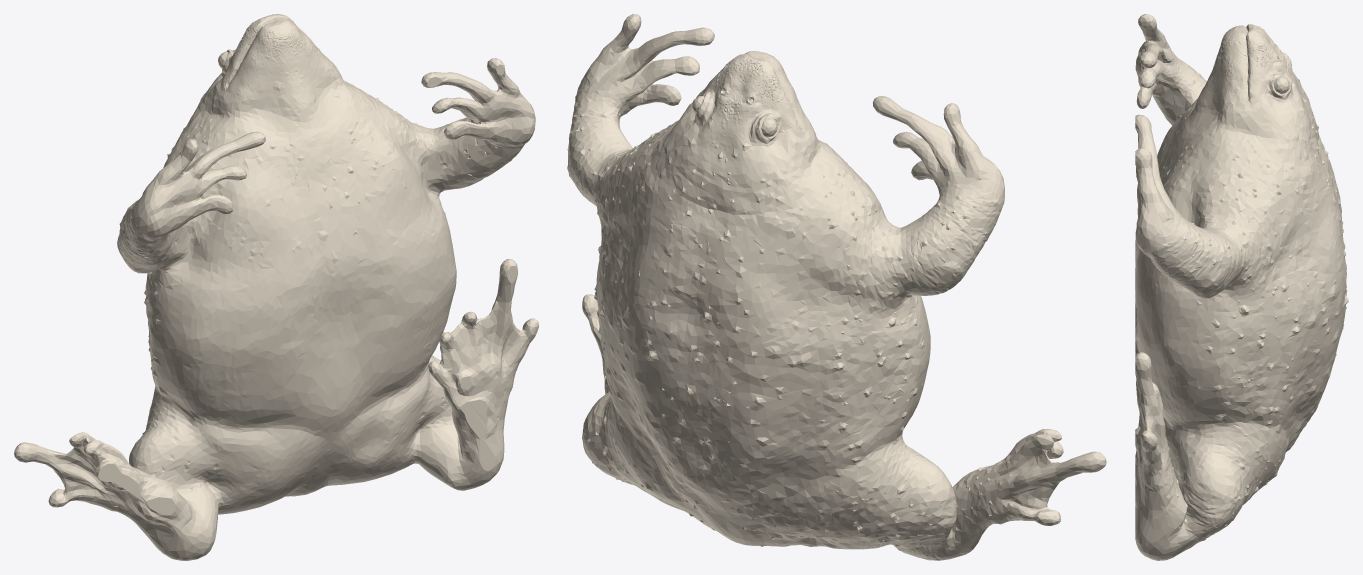
The model's file is animal_toad_v1.glb.
The picture shows the model from 3 angles, left to right: view 1: azimuth 30°, elevation 25°; view 2: azimuth 150°, elevation 25°; view 3: azimuth 270°, elevation 25°; orthographic projection. The views are drawn at different scales.
Parts seen in each view (by area): view 1: mexican-burrowing-toad-1-1; view 2: mexican-burrowing-toad-1-1; view 3: mexican-burrowing-toad-1-1.
Boxes of the visible parts, bbox=[...] form: mexican-burrowing-toad-1-1: bbox=[14, 14, 538, 560]; mexican-burrowing-toad-1-1: bbox=[567, 14, 1106, 560]; mexican-burrowing-toad-1-1: bbox=[1135, 14, 1348, 560].
Bounding box in the file's own units: 89.11 × 79.87 × 33.43.
